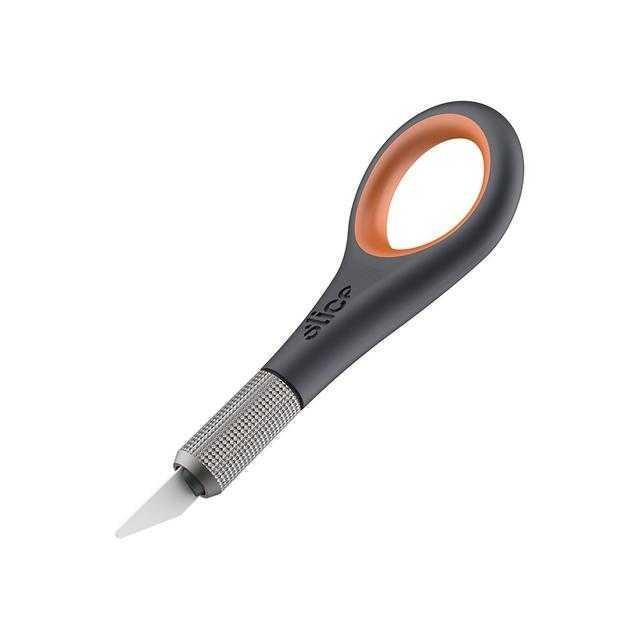knife: (103, 86, 519, 558)
